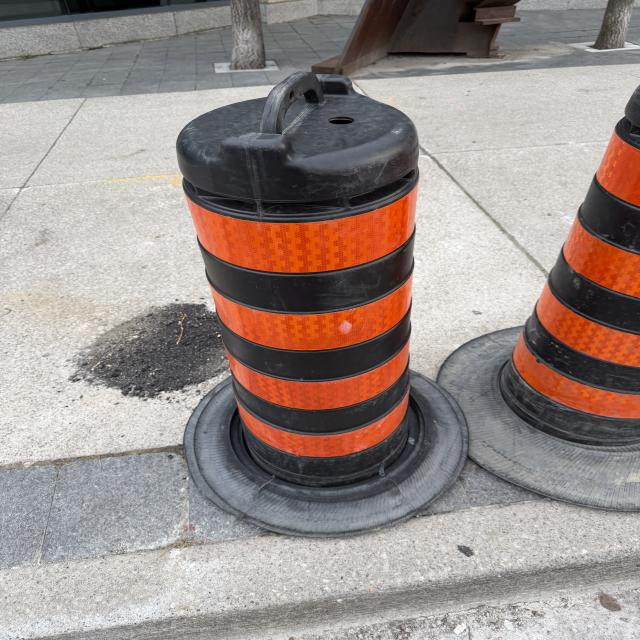Teraffic Barrel: (177, 72, 466, 536), (438, 88, 640, 510)
